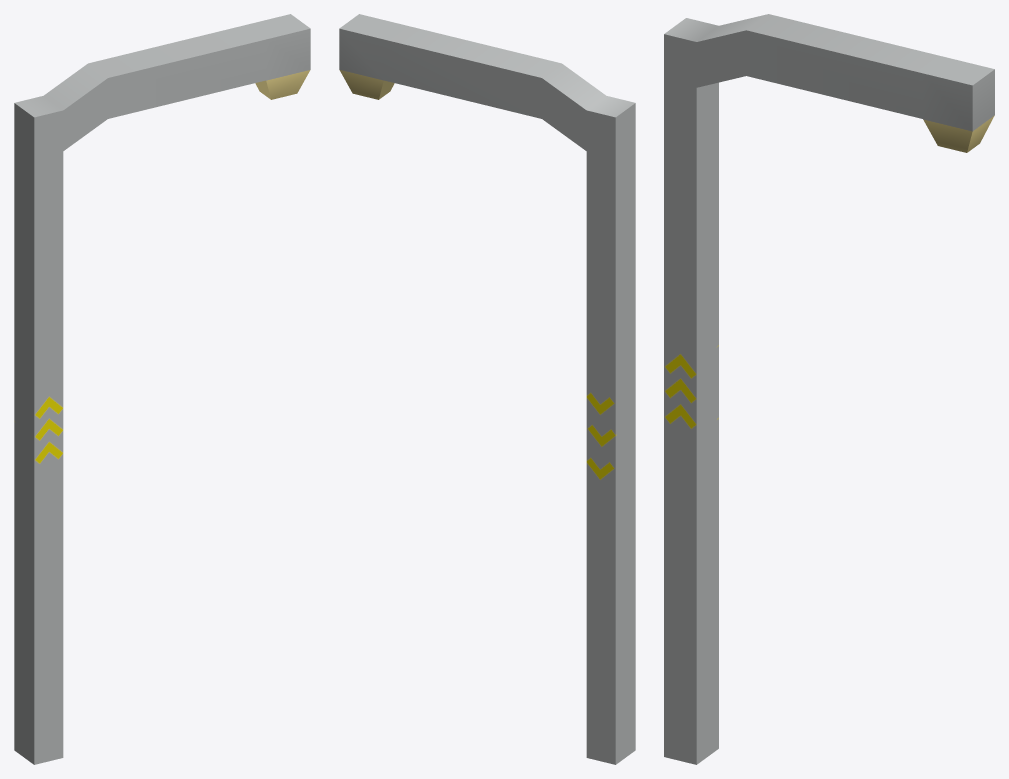
File: ChaosZooCityMapLightPoleL.fbx
3 renders of one model, left to right at view 1: azimuth 30°, elevation 25°; view 2: azimuth 150°, elevation 25°; view 3: azimuth 330°, elevation 25°, orthographic. The views are drawn at different scales.
Parts seen in each view (by area): view 1: pCube59; view 2: pCube59; view 3: pCube59.
Boxes of the visible parts, bbox=[...] form: pCube59: bbox=[14, 14, 310, 764]; pCube59: bbox=[339, 14, 635, 764]; pCube59: bbox=[664, 14, 994, 764].
Bounding box in the file's own units: 16.14 × 37.32 × 2.02.
